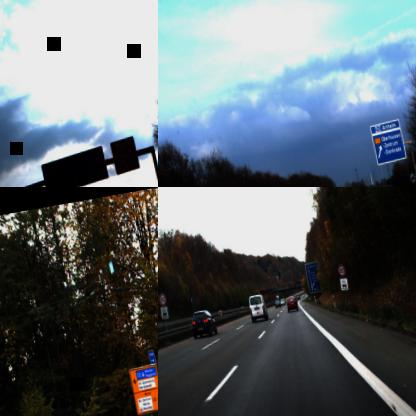restriction ends -overtaking -trucks--: (408, 171, 416, 183)
speed limit 80: (336, 262, 346, 278), (158, 291, 167, 306)
